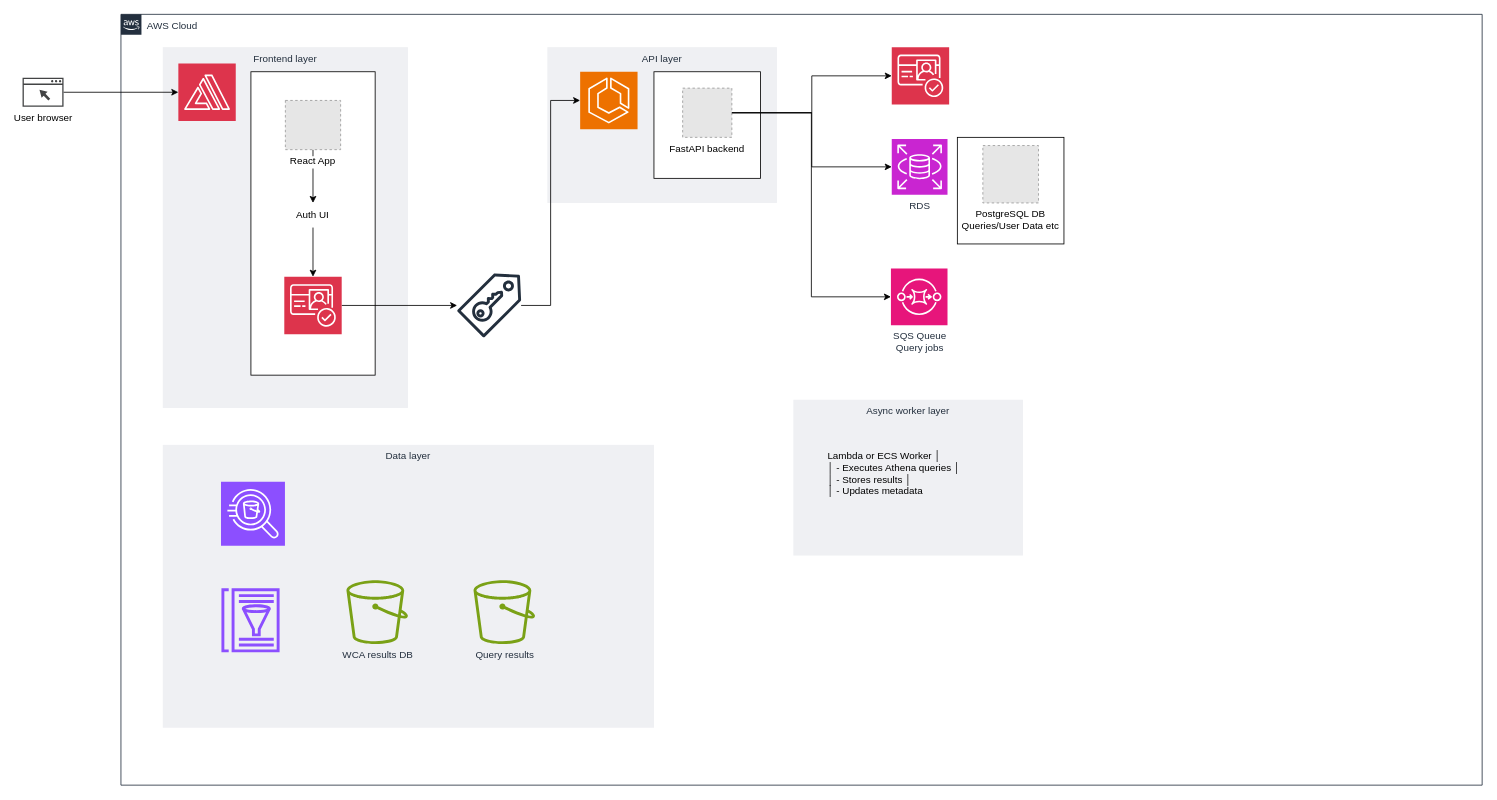
Some shapes in this 1497 by 800 pixel diagram are drawn without their labels. Grey dashed boxes stand in for pictures. Here are the shapes that lost their labels. From the top down, the centre of each, then its label:
At (x=207, y=92): "AWS Amplify".
At (x=920, y=75): "Cognito Auth".
At (x=608, y=100): "ECS Fargate".
At (x=312, y=305): "Cognito Hosted Login".
At (x=489, y=305): "JWT auth token".
At (x=252, y=513): "Athena".
At (x=250, y=620): "Glue Data Catalog".
